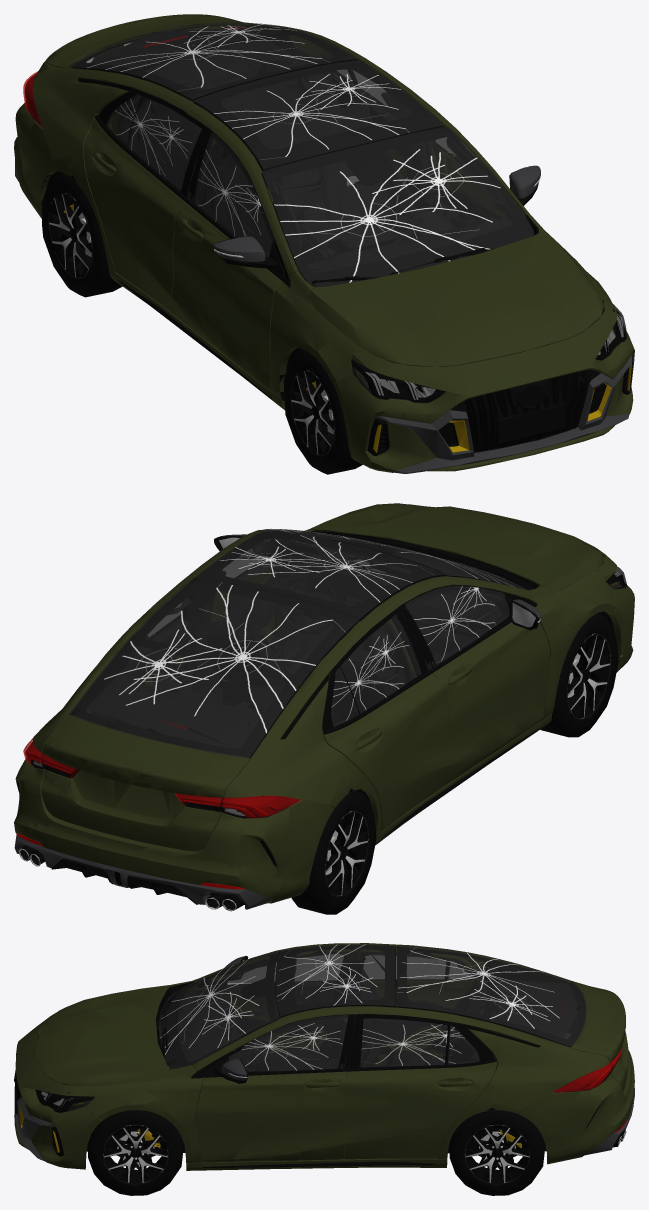
Rendered from GAC_Empow_Lite.glb.
The picture shows the model from 3 angles, top to bottom: view 1: azimuth 30°, elevation 25°; view 2: azimuth 150°, elevation 25°; view 3: azimuth 270°, elevation 25°; orthographic projection. The views are drawn at different scales.
Visible parts, largest first — view 1: Interior__Interior, Body_Mid__C02__WindowsTrims, Hood__C05__Matte_Green, Hood__C09__Matte_Green, Body_Rear__C08__Matte_Green, Body_Front__C06__Matte_Green, Body_Mid__C05__WindowsTrims, Hood__C07__Matte_Green, Wheel_RR__Tires, Hood__C04__Matte_Green, Wheel_RF__Tires, FrontBumper__C09__Matte_Green (+104 smaller); view 2: Interior__Interior, Body_Rear__C08__Matte_Green, Body_Front__C06__Matte_Green, RearBumper__C06__Matte_Green, Body_Mid__C02__WindowsTrims, Trunk__C08__Matte_Green, Wheel_RR__Tires, RearBumper__C12__Matte_Green, Hood__C09__Matte_Green, Trunk__C03__Matte_Green, Trunk__C02__Matte_Green, Glass_Rear__C06__Windows (+95 smaller); view 3: Interior__Interior, Wheel_LF__Tires, Wheel_LR__Tires, FrontBumper__C08__Matte_Green, Door_L__C07__Matte_Green, Door_RL__C04__Matte_Green, Body_Rear__C09__Matte_Green, Body_Rear__C07__Matte_Green, Door_RL__C03__Matte_Green, Body_Front__C08__Matte_Green, Door_L__C06__Matte_Green, Body_Mid__C05__WindowsTrims (+126 smaller).
Part boxes in pixels (x1,y1,x2,y2): Interior__Interior: [90, 25, 513, 272]; Body_Mid__C02__WindowsTrims: [168, 69, 397, 259]; Hood__C05__Matte_Green: [353, 290, 498, 366]; Hood__C09__Matte_Green: [310, 269, 445, 347]; Body_Rear__C08__Matte_Green: [32, 62, 119, 160]; Body_Front__C06__Matte_Green: [270, 264, 340, 400]; Body_Mid__C05__WindowsTrims: [243, 41, 467, 153]; Hood__C07__Matte_Green: [464, 309, 573, 357]; Wheel_RR__Tires: [41, 172, 122, 297]; Hood__C04__Matte_Green: [447, 264, 557, 311]; Wheel_RF__Tires: [283, 349, 362, 474]; FrontBumper__C09__Matte_Green: [333, 346, 393, 460]; Interior__Interior: [86, 529, 516, 748]; Body_Rear__C08__Matte_Green: [227, 687, 345, 804]; Body_Front__C06__Matte_Green: [523, 578, 603, 720]; RearBumper__C06__Matte_Green: [271, 799, 334, 902]; Body_Mid__C02__WindowsTrims: [239, 541, 481, 649]; Trunk__C08__Matte_Green: [111, 773, 194, 850]; Wheel_RR__Tires: [291, 790, 376, 914]; RearBumper__C12__Matte_Green: [201, 808, 289, 869]; Hood__C09__Matte_Green: [456, 538, 597, 590]; Trunk__C03__Matte_Green: [50, 758, 121, 834]; Trunk__C02__Matte_Green: [77, 733, 169, 806]; Glass_Rear__C06__Windows: [212, 690, 290, 758]; Interior__Interior: [159, 951, 579, 1071]; Wheel_LF__Tires: [88, 1110, 183, 1195]; Wheel_LR__Tires: [449, 1110, 545, 1195]; FrontBumper__C08__Matte_Green: [29, 1082, 101, 1169]; Door_L__C07__Matte_Green: [212, 1080, 312, 1137]; Door_RL__C04__Matte_Green: [365, 1069, 439, 1128]; Body_Rear__C09__Matte_Green: [487, 1022, 589, 1082]; Body_Rear__C07__Matte_Green: [490, 1047, 569, 1113]; Door_RL__C03__Matte_Green: [344, 1098, 394, 1159]; Body_Front__C08__Matte_Green: [142, 1061, 202, 1144]; Door_L__C06__Matte_Green: [196, 1108, 254, 1162]; Body_Mid__C05__WindowsTrims: [253, 958, 456, 1029].
Size of the model in its own units: 2.12 by 1.47 by 4.7.
30 materials, 1 textured.
